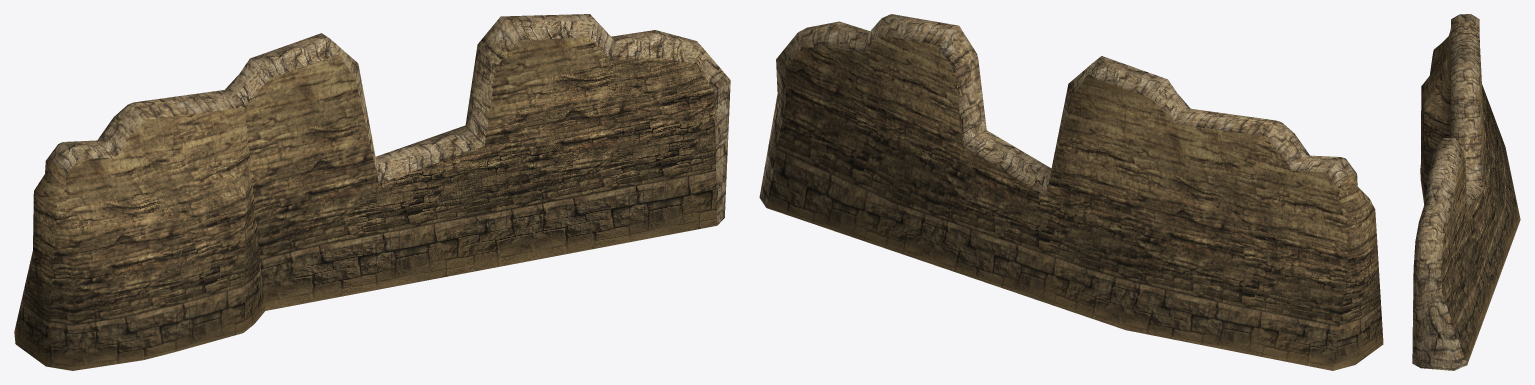
Rendered from SandstoneRuins1.fbx.
The picture shows the model from 3 angles, left to right: view 1: azimuth 30°, elevation 25°; view 2: azimuth 150°, elevation 25°; view 3: azimuth 270°, elevation 25°; orthographic projection. The views are drawn at different scales.
Parts seen in each view (by area): view 1: Object001; view 2: Object001; view 3: Object001.
Part boxes in pixels (<box>): Object001: <box>14,14,730,370</box>; Object001: <box>759,14,1383,370</box>; Object001: <box>1412,14,1520,370</box>.
Bounding box in the file's own units: 887 × 314 × 178.
